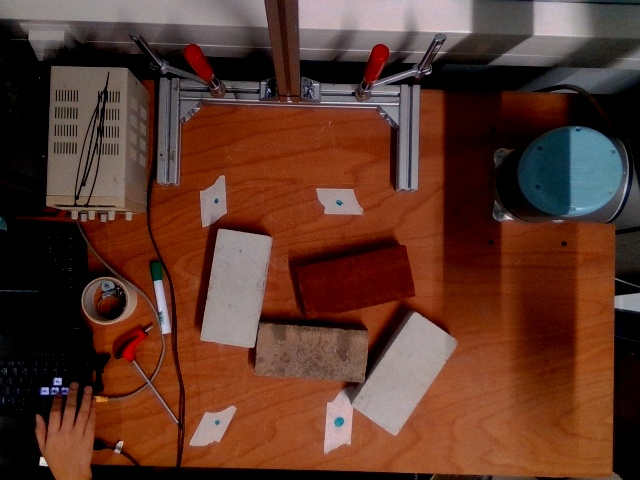brick: (352, 313, 458, 434), (298, 243, 416, 319), (199, 229, 270, 346), (253, 323, 366, 385)
